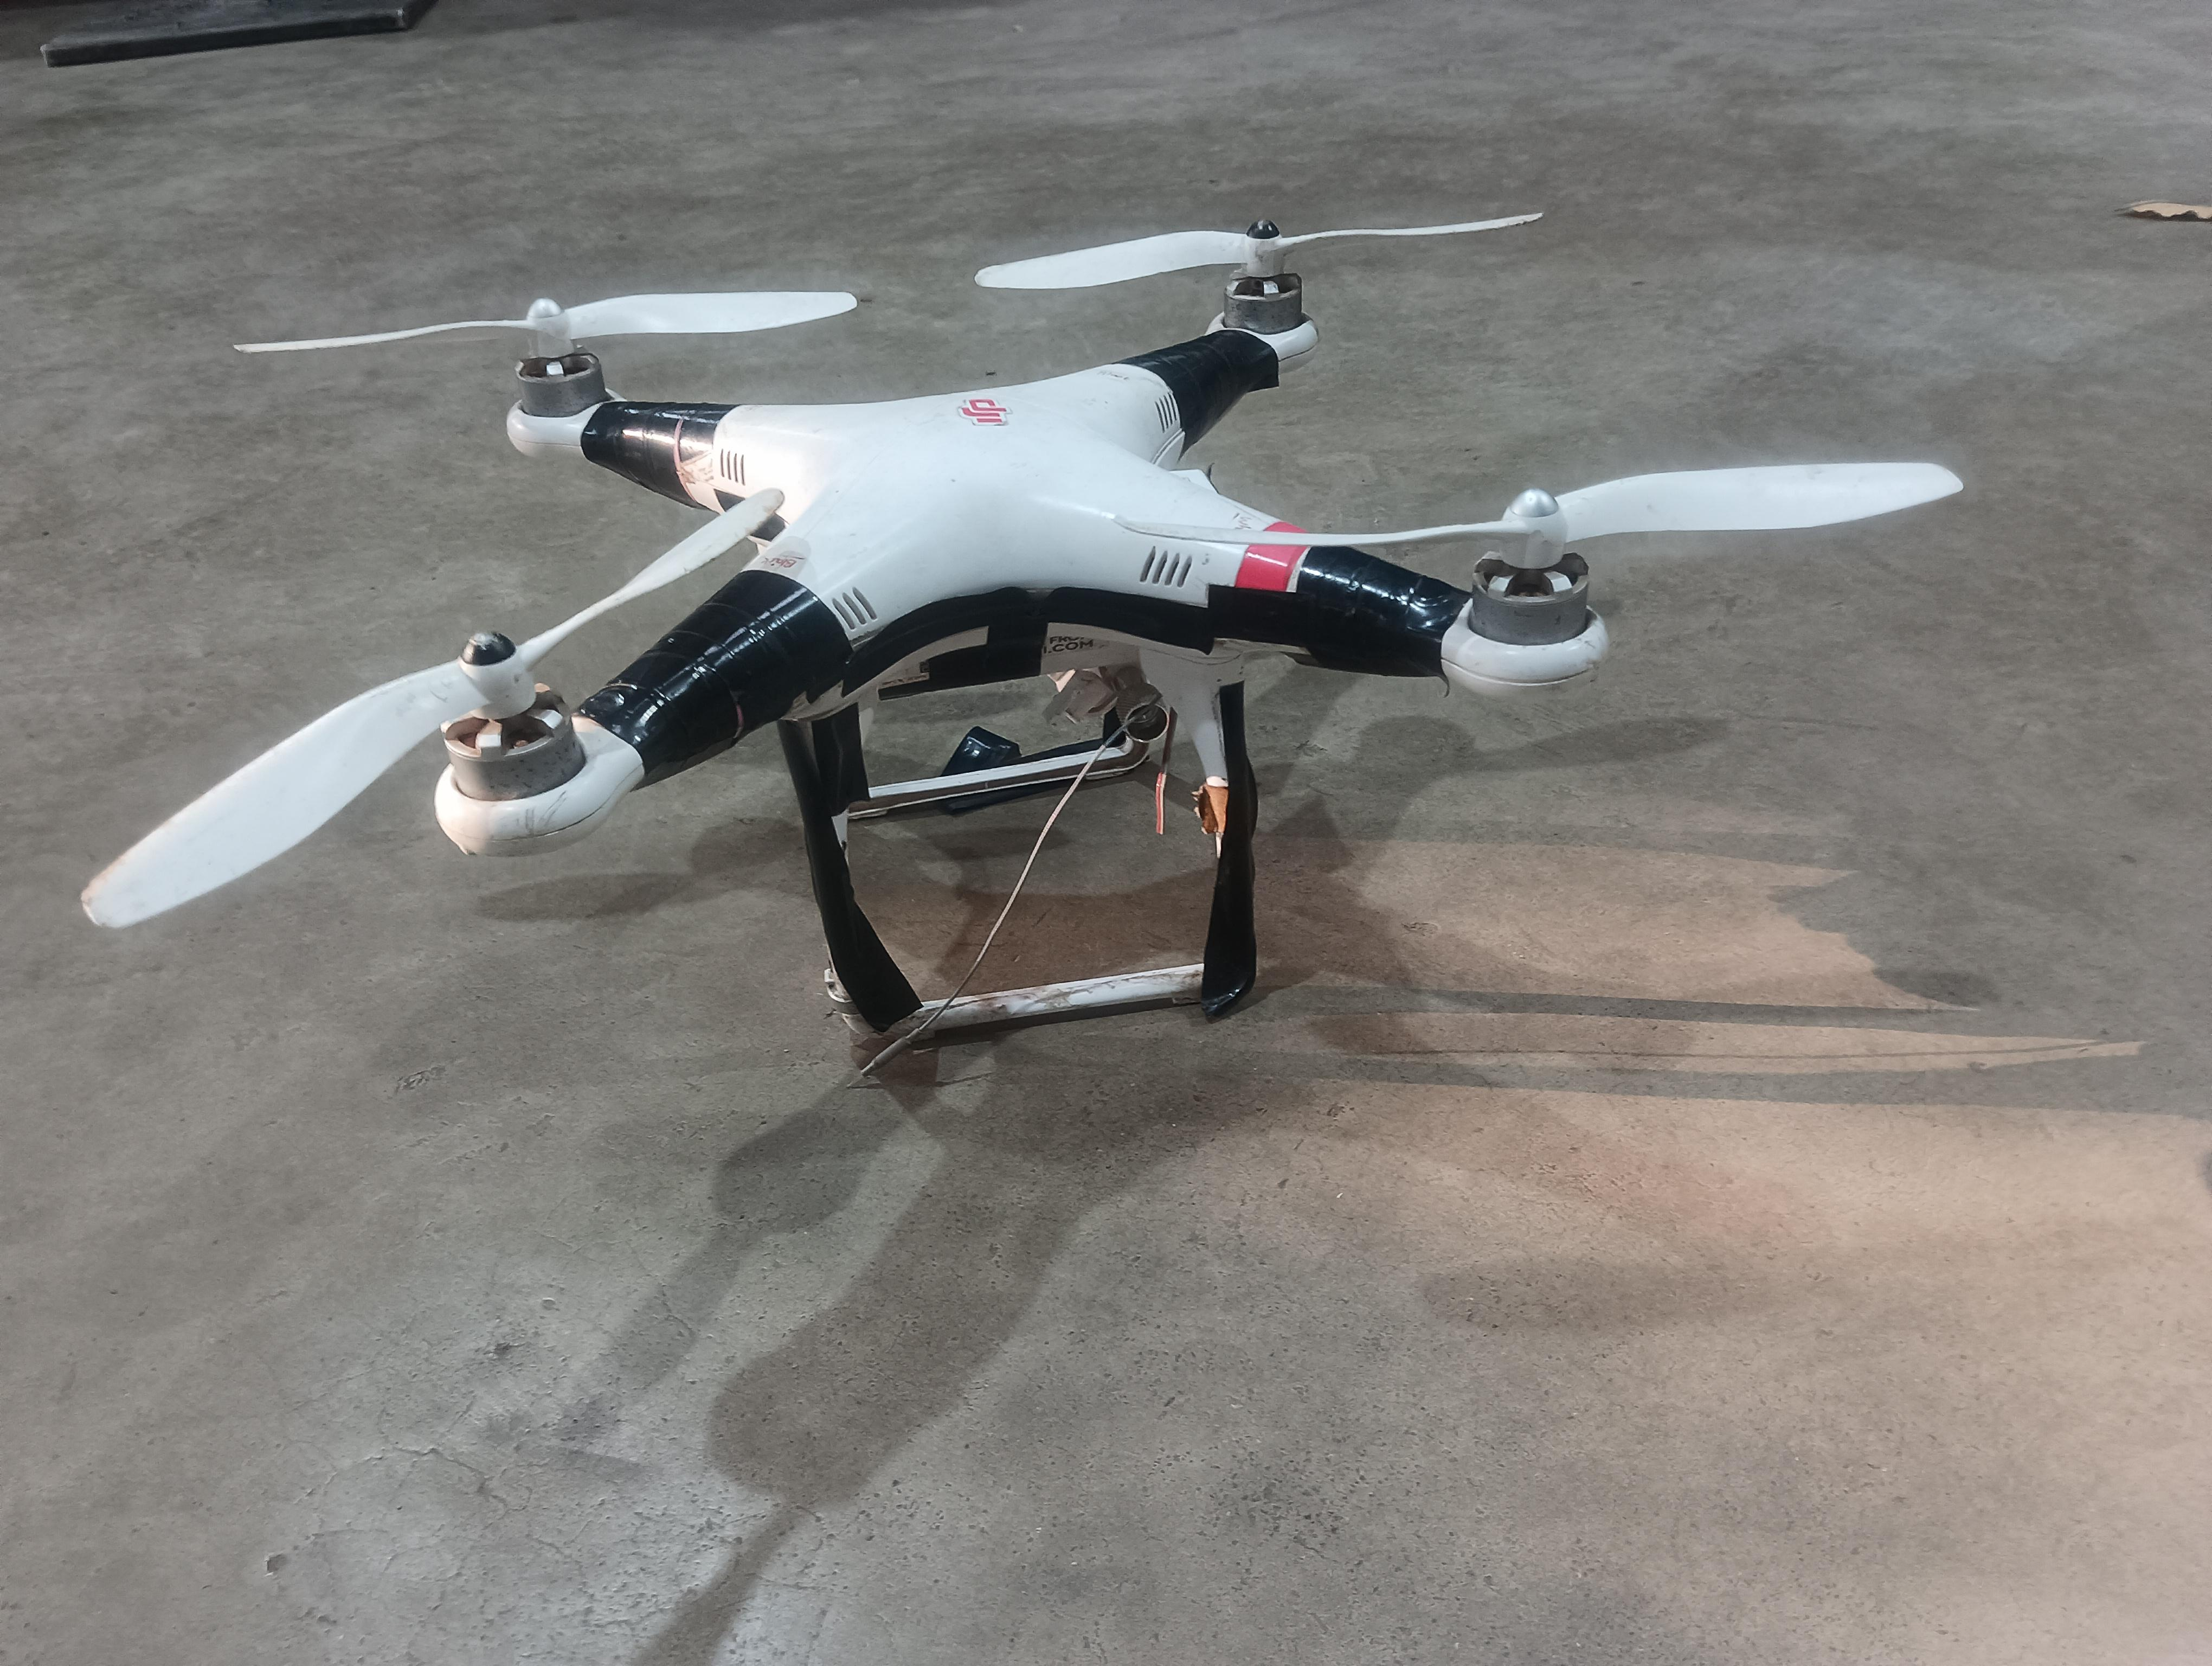drone: (56, 142, 2006, 1143)
